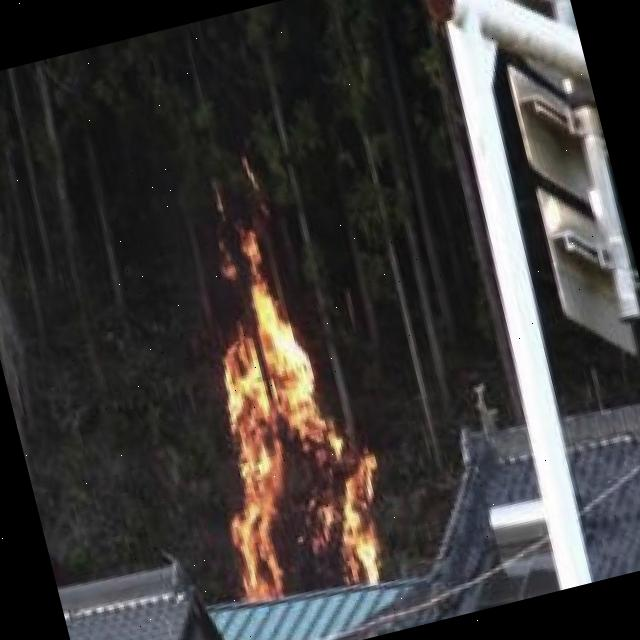fire: (160, 211, 398, 614)
